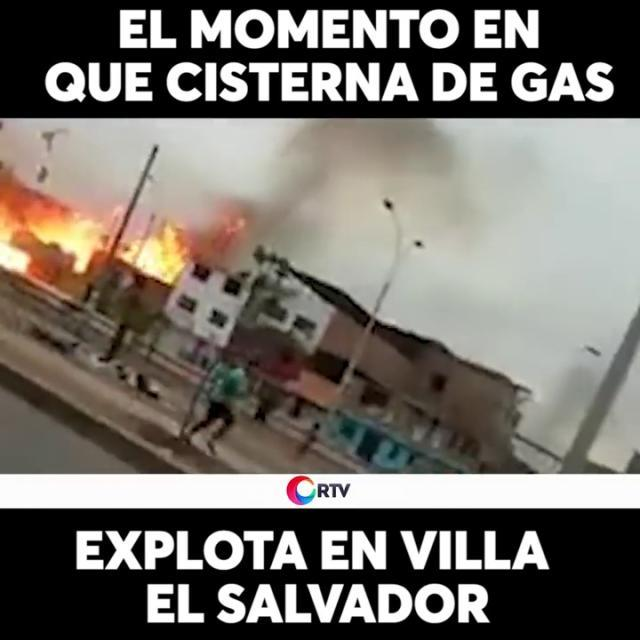Fire: (0, 188, 203, 290)
Smoke: (207, 119, 629, 292)
